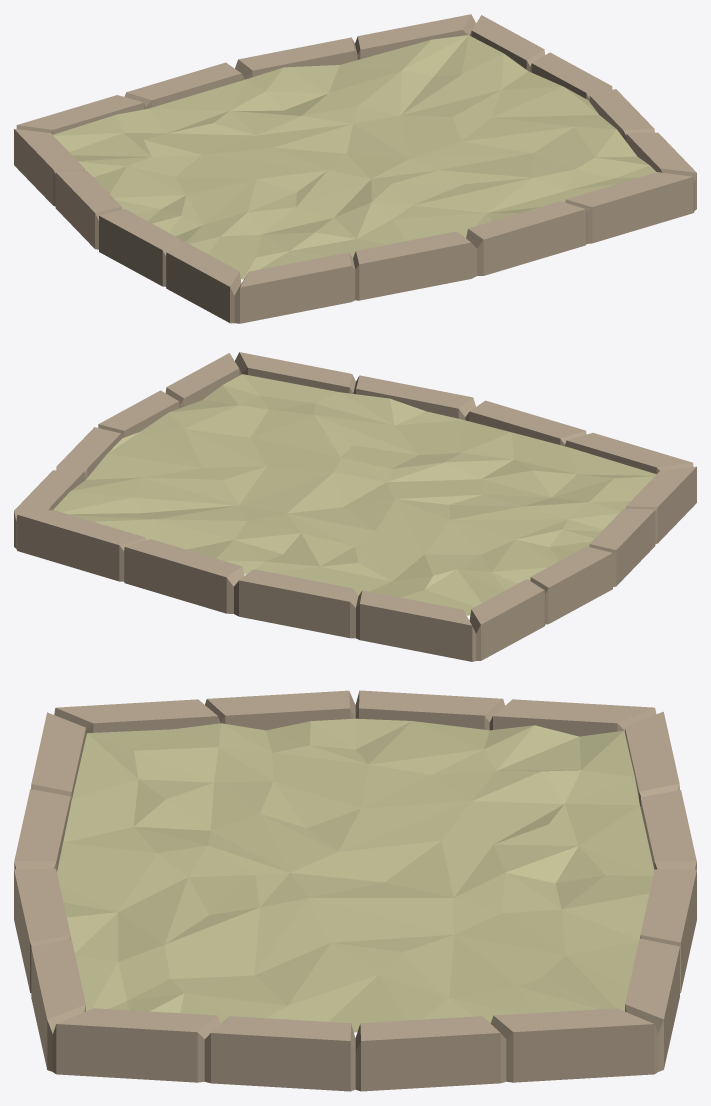
The model's file is Sand_Garden_Brown_vc.fbx.
3 renders of one model, top to bottom at view 1: azimuth 30°, elevation 25°; view 2: azimuth 150°, elevation 25°; view 3: azimuth 270°, elevation 25°, orthographic. The views are drawn at different scales.
Parts seen in each view (by area): view 1: Sand_Garden_Brown_vc; view 2: Sand_Garden_Brown_vc; view 3: Sand_Garden_Brown_vc.
Boxes of the visible parts, x1,y1,x2,y2 form: Sand_Garden_Brown_vc: (14, 14, 696, 323); Sand_Garden_Brown_vc: (14, 352, 696, 661); Sand_Garden_Brown_vc: (14, 690, 696, 1091).
Size of the model in its own units: 849 by 56.97 by 699.
